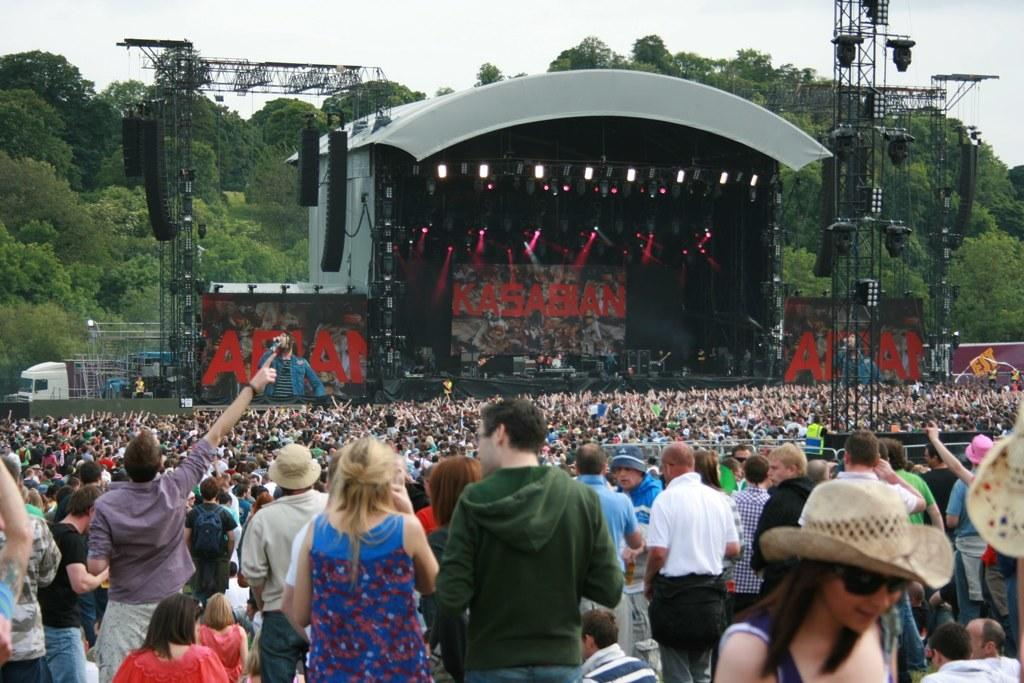Hat: (758, 475, 956, 587), (964, 405, 1022, 551), (262, 438, 320, 490), (607, 444, 647, 474), (966, 430, 992, 462)
